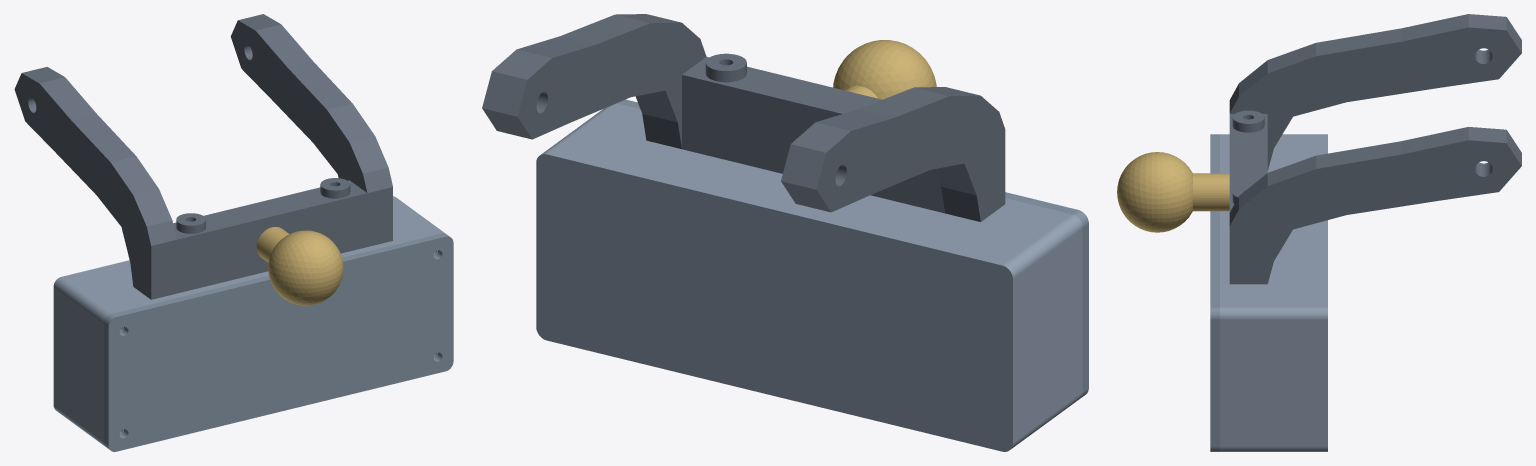
The model's file is assembly_DRAFT.glb.
3 renders of one model, left to right at view 1: azimuth 30°, elevation 25°; view 2: azimuth 150°, elevation 25°; view 3: azimuth 270°, elevation 25°, orthographic. The views are drawn at different scales.
Visible parts, largest first — view 1: lid, bracket, enclosure, ball_hardware_reference; view 2: enclosure, bracket, ball_hardware_reference, lid; view 3: bracket, enclosure, ball_hardware_reference, lid.
Part boxes in pixels (x1,y1,x2,y2): lid: [104, 233, 453, 451]; bracket: [14, 14, 392, 299]; enclosure: [53, 196, 445, 446]; ball_hardware_reference: [256, 227, 343, 305]; enclosure: [536, 103, 1082, 451]; bracket: [482, 14, 1005, 221]; ball_hardware_reference: [833, 40, 936, 99]; lid: [617, 99, 1088, 398]; bracket: [1229, 14, 1521, 284]; enclosure: [1220, 134, 1327, 451]; ball_hardware_reference: [1117, 152, 1229, 232]; lid: [1210, 134, 1219, 451].
Size of the model in its own units: 0.134 by 0.1 by 0.1274.
